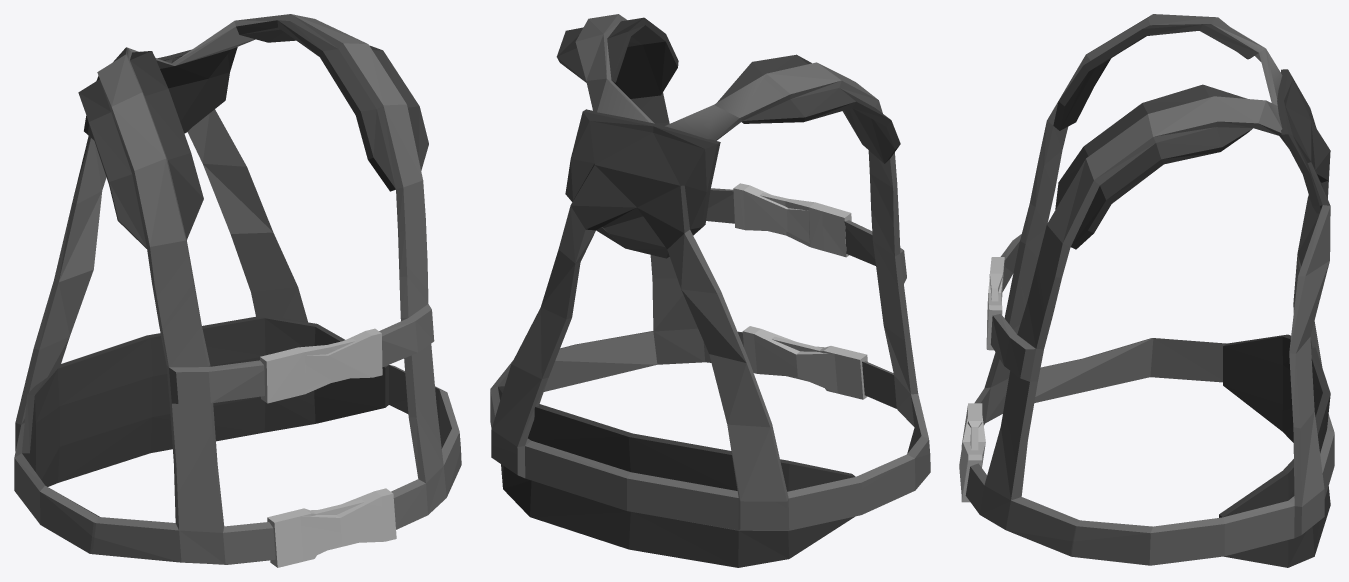
The model's file is Lite_Coat.fbx.
3 views of the same model, side by side, from view 1: azimuth 30°, elevation 25°; view 2: azimuth 150°, elevation 25°; view 3: azimuth 270°, elevation 25° (orthographic).
Parts seen in each view (by area): view 1: Lite_Coat; view 2: Lite_Coat; view 3: Lite_Coat.
Part boxes in pixels (left/top/right/bottom): Lite_Coat: left=14, top=14, right=461, bottom=567; Lite_Coat: left=490, top=14, right=930, bottom=567; Lite_Coat: left=959, top=14, right=1334, bottom=567.
Size of the model in its own units: 83.19 by 90.12 by 67.74.
